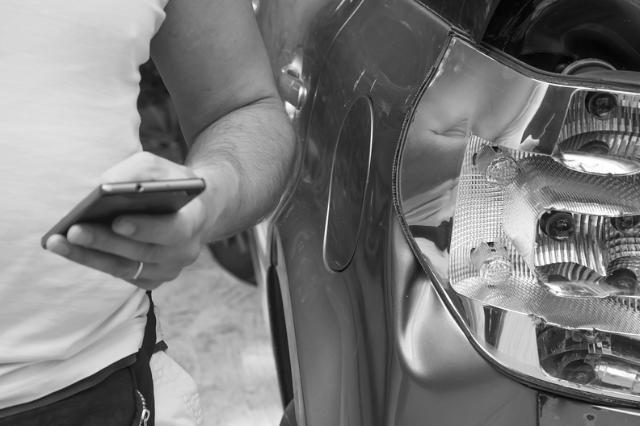Light: (443, 45, 640, 345)
